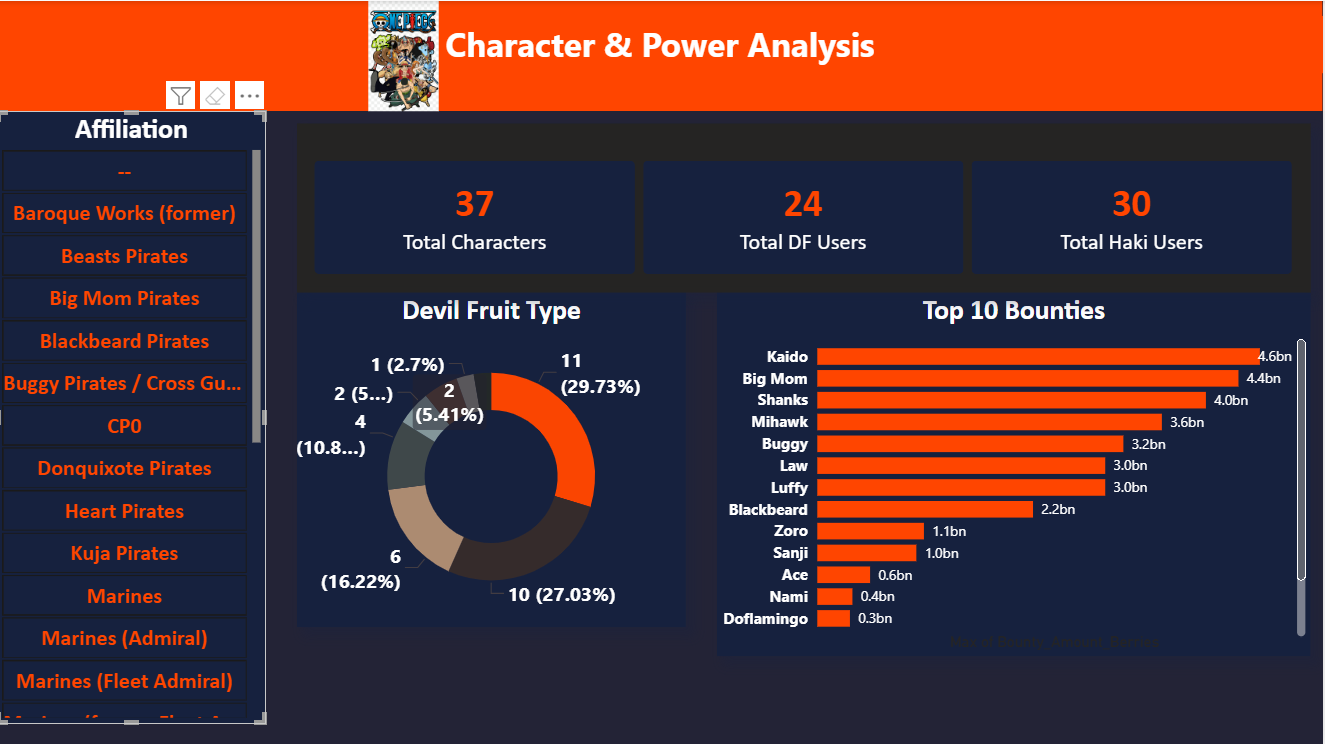

This screenshot's page, from the dashboard's own definition file:
{"tool":"powerbi","page":{"name":"Character & Power Analysis","canvas":[1280,720],"ordinal":1},"visuals":[{"type":"shape","box":[0.5,0,1279.5,106.2],"z":0,"group":"g1"},{"type":"clusteredBarChart","title":"Top 10 Bounties","fields":{"Category":["Bounties.Character_Name"],"Y":["Max(Bounties.Bounty_Amount_Berries)"]},"box":[694.9,281.1,573.1,351.1],"z":0},{"type":"textbox","box":[0,14,1280,54.8],"z":1000,"group":"g1"},{"type":"pieChart","title":"Devil Fruit Type","fields":{"Category":["Characters.DF_Type"],"Y":["CountNonNull(Characters.Character_Name)"]},"box":[289.5,281.1,375.2,323.3],"z":1000},{"type":"listSlicer","fields":{"Values":["Characters.Affiliation"]},"box":[0,106.2,259.4,591.2],"z":2000},{"type":"group","id":"g1","title":"Group 1","box":[0,0,1280,106.2],"z":3000},{"type":"cardVisual","title":"Total Characters","fields":{"Data":["CountNonNull(Characters.Character_Name)","Characters.DF Users","Characters.Haki Users"]},"box":[289.5,118.2,978.4,162.9],"z":4000},{"type":"image","box":[213.5,0,357.1,106.2],"z":4001}]}

Visuals, with their boxes on the page's 1280x720 design canvas (x1, y1, x2, y2). These are canvas units, not pixel positions in the 1325x744 screenshot, which may show the page scaled, cropped or inside an application window:
shape: bbox(0, 0, 1280, 106)
"Top 10 Bounties" clusteredBarChart: bbox(695, 281, 1268, 632)
textbox: bbox(0, 14, 1280, 69)
"Devil Fruit Type" pieChart: bbox(290, 281, 665, 604)
listSlicer - Characters.Affiliation: bbox(0, 106, 259, 697)
"Group 1" group: bbox(0, 0, 1280, 106)
"Total Characters" cardVisual: bbox(290, 118, 1268, 281)
image: bbox(214, 0, 571, 106)
